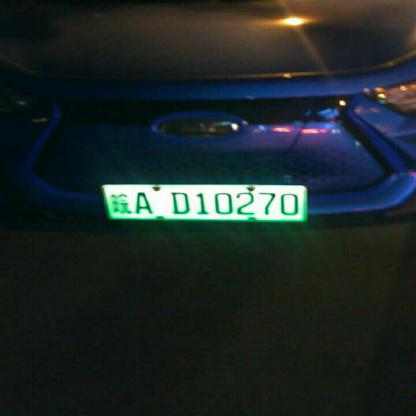lp: (101, 185, 306, 220)
